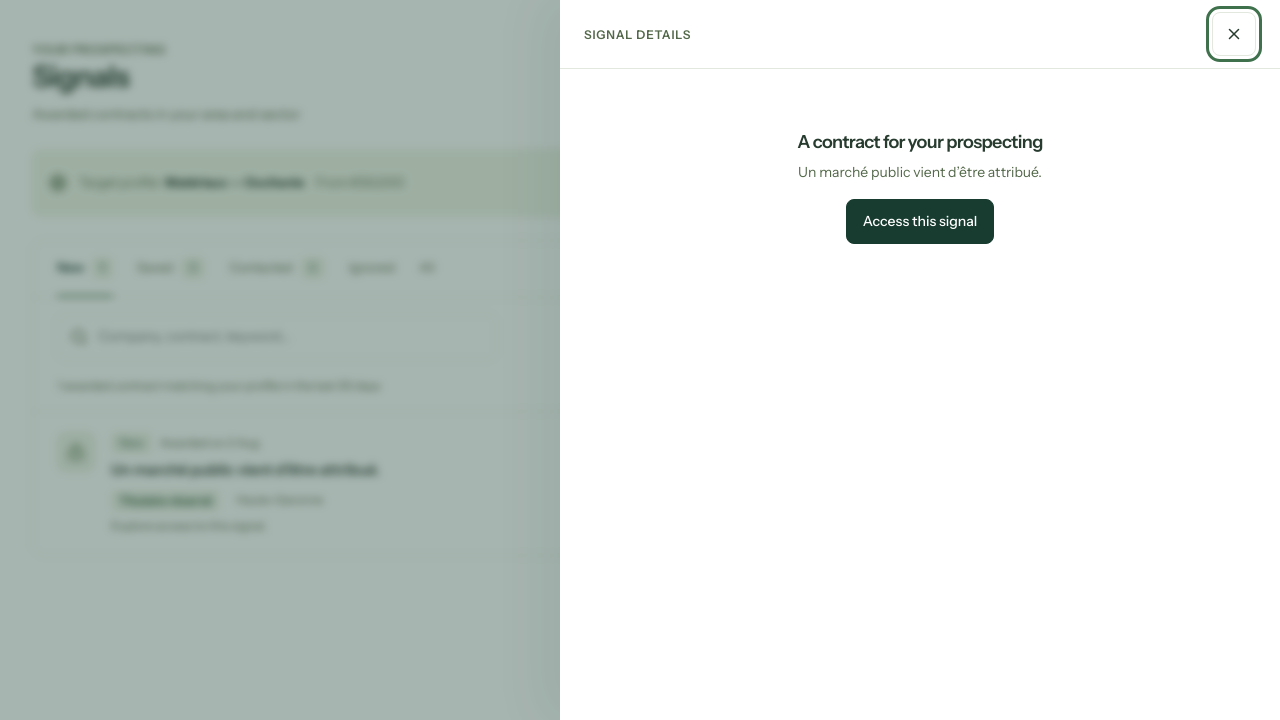
it: signal verrouillé sur un compte payant › reste vrai en anglais
Click the button "Access this signal": [920, 221] box [846,199,994,244]
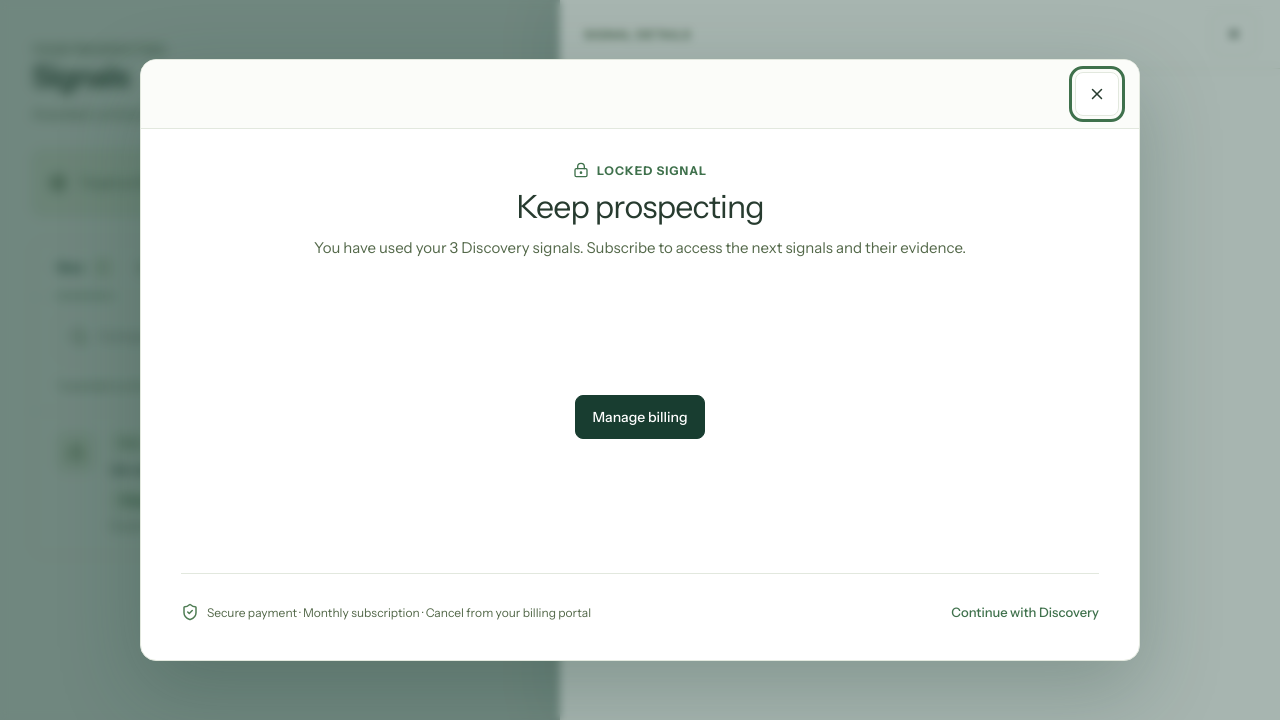
Expected: the heading "Keep prospecting" is shown, [516,187,764,226]
Click the link "Manage billing": [640, 417] box [575,395,704,439]
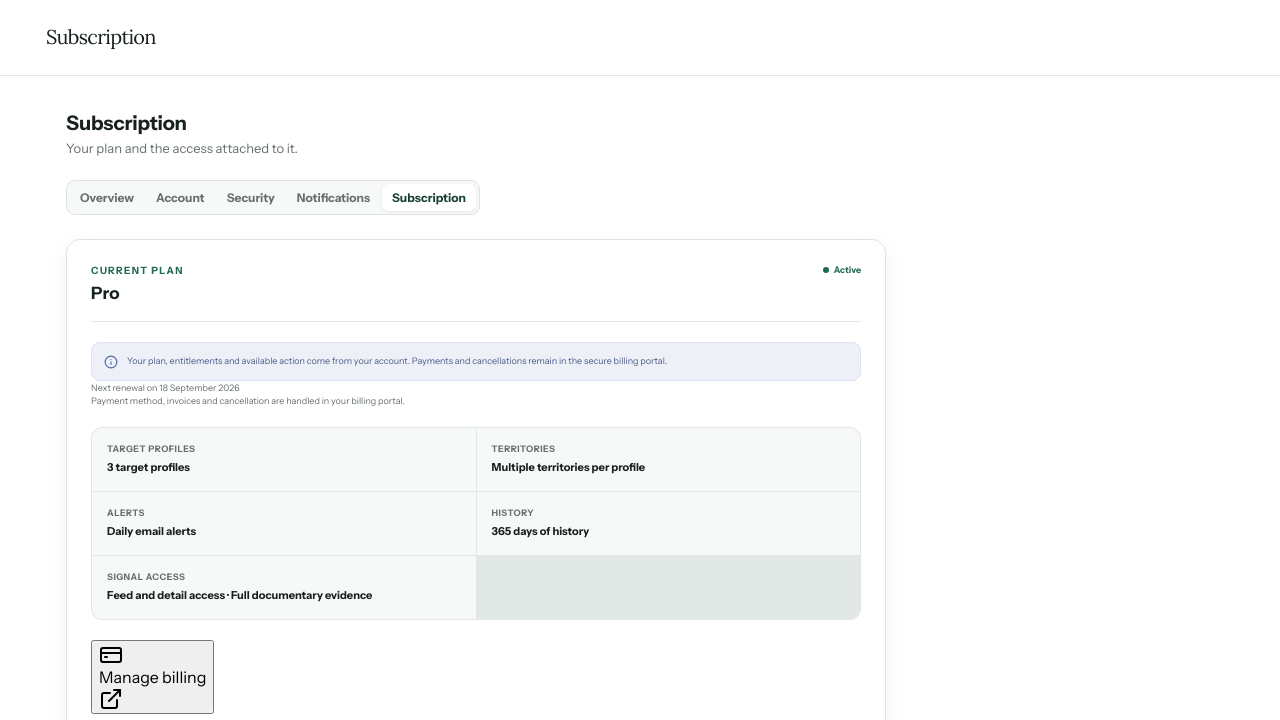
Expected: the button "Manage billing" is shown, [91,640,214,714]
Expected: the text "365 days of history" is shown, [492,524,589,538]
